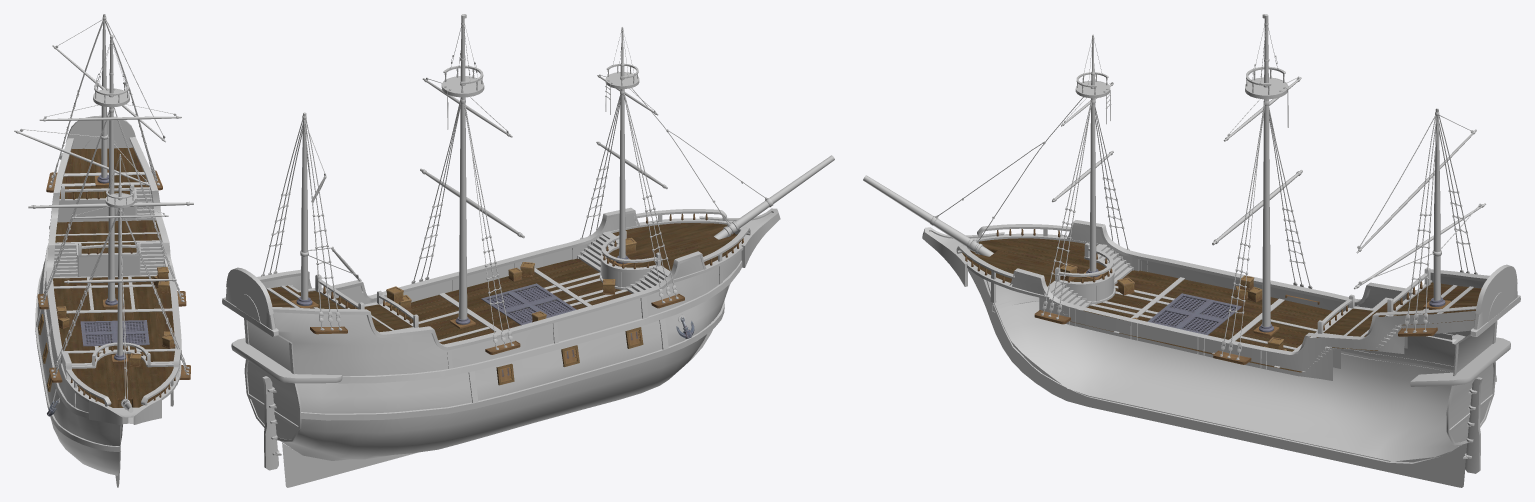
File: pref_sce_081501_boat02_a_lv2.fbx
3 views of the same model, side by side, from view 1: azimuth 30°, elevation 25°; view 2: azimuth 150°, elevation 25°; view 3: azimuth 270°, elevation 25° (orthographic). The views are drawn at different scales.
Parts seen in each view (by area): view 1: lobby_cinderace_boat02_lv3, lobby_cinderace_boat02_a_lv3, lobbycinderace_mast02_lv3, lobbycinderace_mast02_a_lv3; view 2: lobby_cinderace_boat02_lv3, lobby_cinderace_boat02_a_lv3, lobbycinderace_mast02_lv3, lobbycinderace_mast02_a_lv3; view 3: lobby_cinderace_boat02_lv3, lobby_cinderace_boat02_a_lv3, lobbycinderace_mast02_lv3, lobbycinderace_mast02_a_lv3.
Boxes of the visible parts, left/top/right/bottom form: lobby_cinderace_boat02_lv3: left=35, top=115, right=181, bottom=487; lobby_cinderace_boat02_a_lv3: left=37, top=147, right=190, bottom=416; lobbycinderace_mast02_lv3: left=14, top=14, right=193, bottom=409; lobbycinderace_mast02_a_lv3: left=20, top=35, right=189, bottom=377; lobby_cinderace_boat02_lv3: left=222, top=155, right=834, bottom=487; lobby_cinderace_boat02_a_lv3: left=267, top=213, right=743, bottom=385; lobbycinderace_mast02_lv3: left=261, top=19, right=773, bottom=349; lobbycinderace_mast02_a_lv3: left=261, top=14, right=678, bottom=349; lobby_cinderace_boat02_lv3: left=863, top=175, right=1520, bottom=487; lobby_cinderace_boat02_a_lv3: left=962, top=229, right=1481, bottom=372; lobbycinderace_mast02_lv3: left=930, top=19, right=1485, bottom=359; lobbycinderace_mast02_a_lv3: left=1041, top=14, right=1481, bottom=359.
Bounding box in the file's own units: 24.28 × 31.16 × 42.89.
